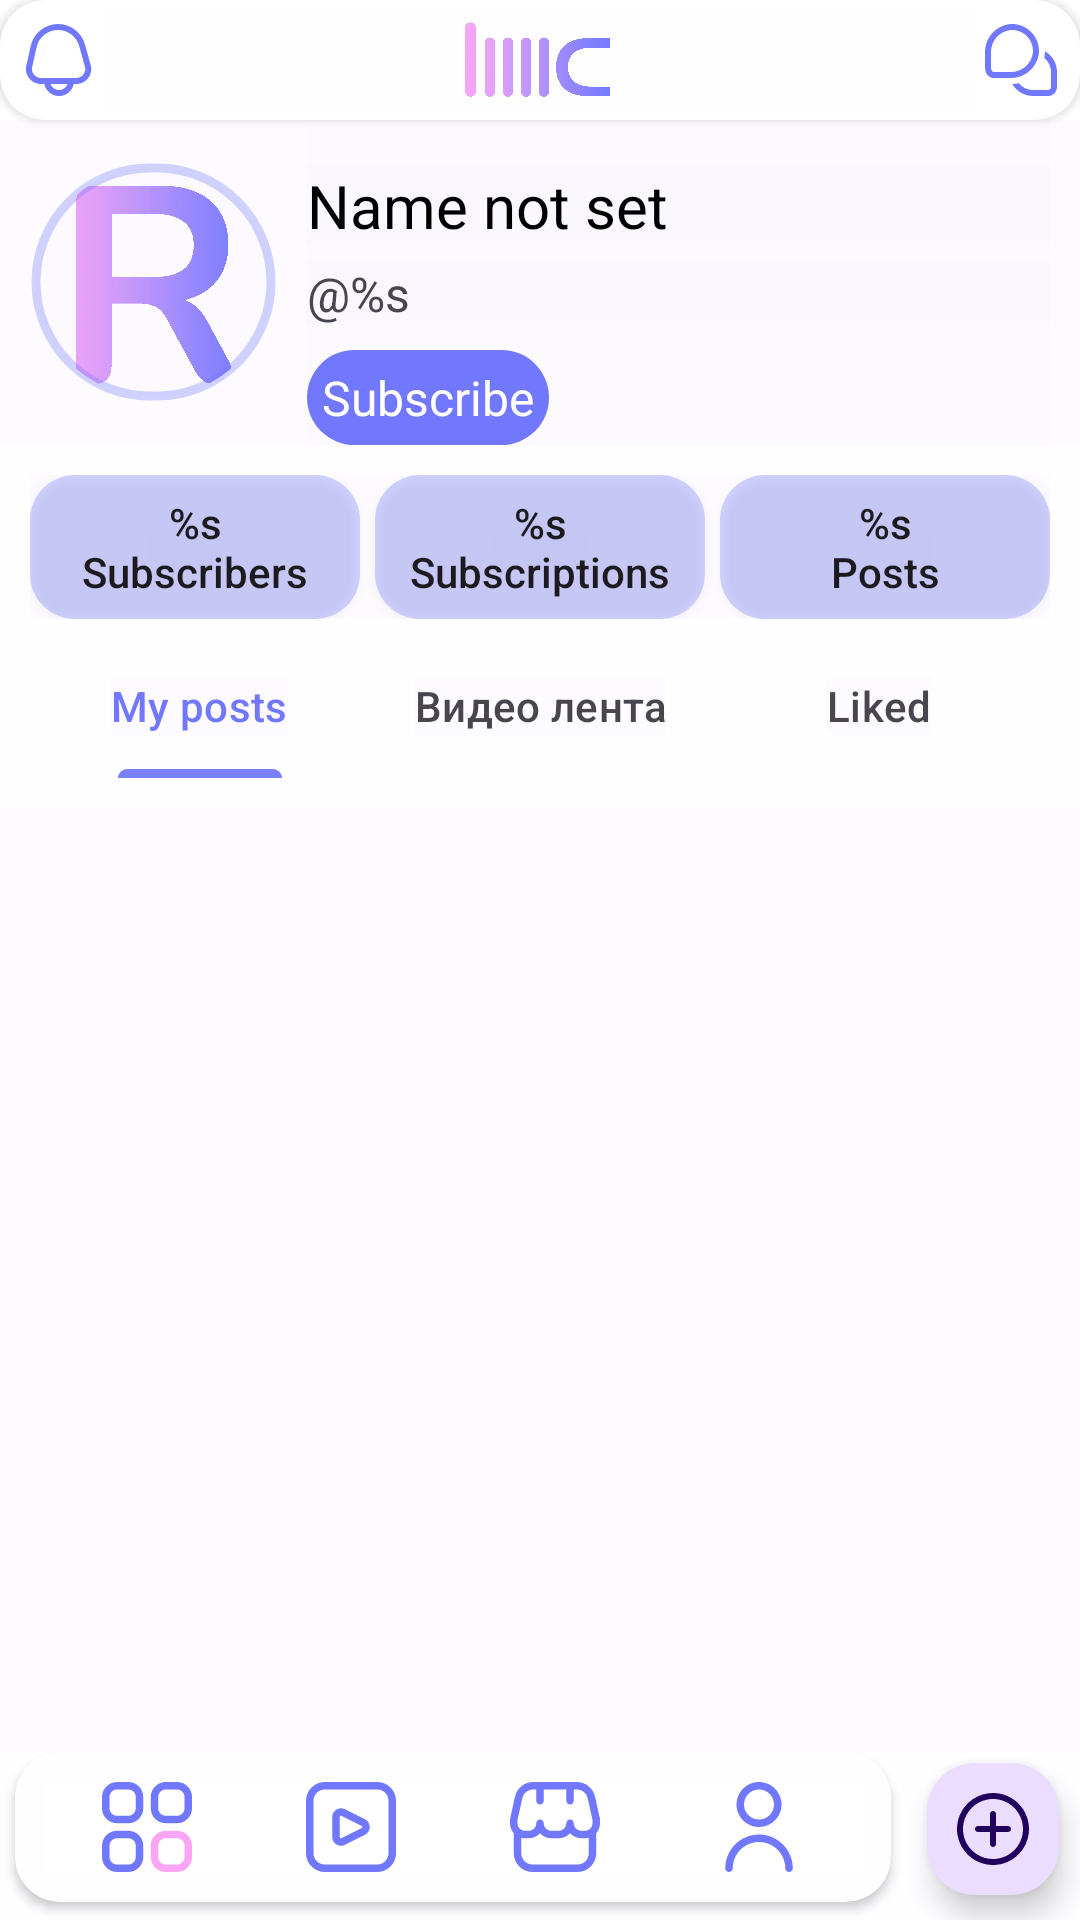

Icons on this 1080 x 1920 Android screen, each with the point to tap as [x,y]:
Account: [759,1827]
Add post: [994,1832]
Home screen: [147,1827]
Messages: [1021,60]
Notifications: [59,60]
Store: [555,1827]
Videos feed: [351,1827]
